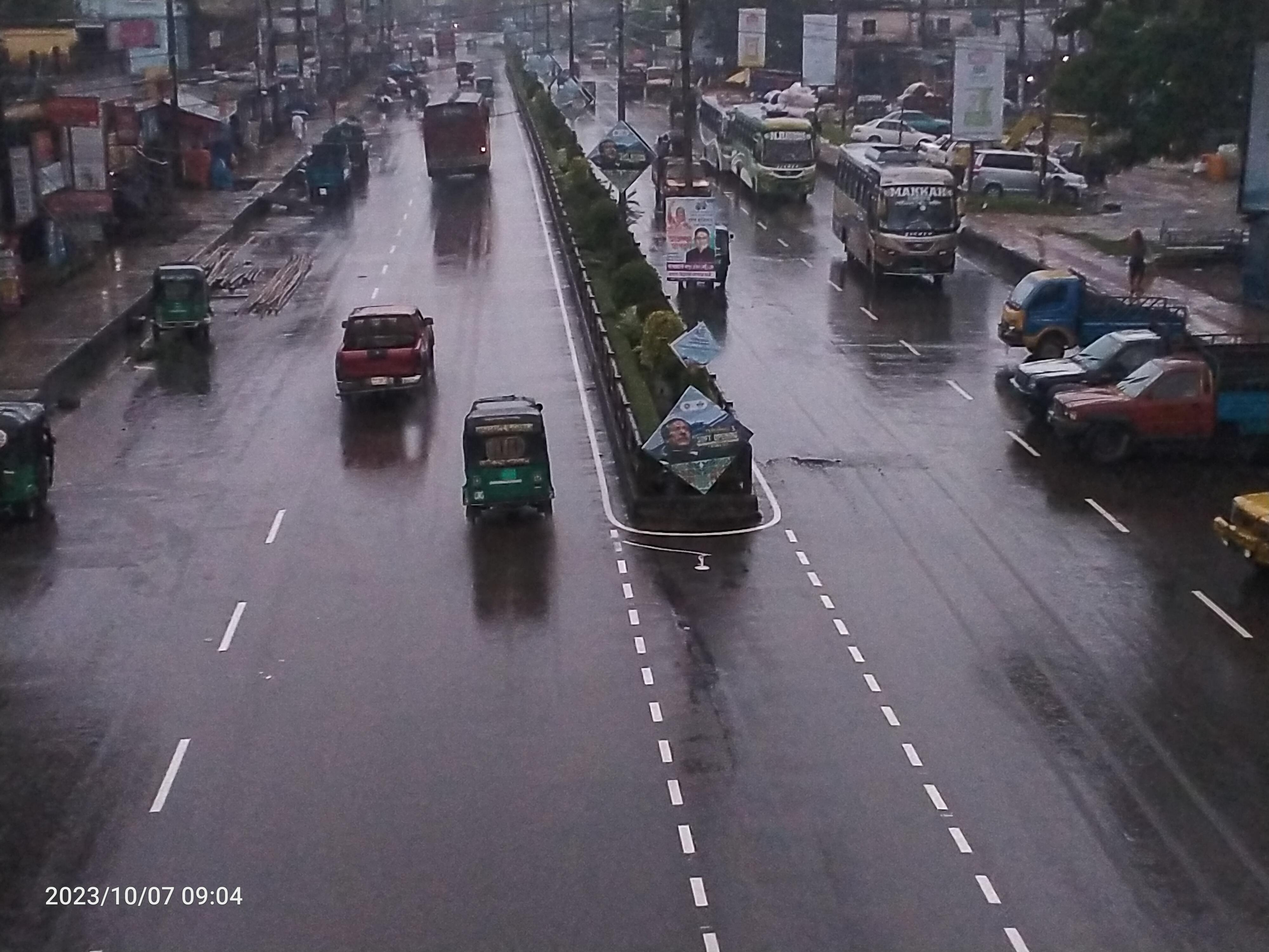Bus: (814, 136, 979, 296), (712, 92, 838, 216), (414, 87, 503, 196)
Car: (314, 275, 453, 418), (953, 130, 1109, 226), (838, 92, 952, 166)
Truck: (1005, 337, 1269, 479), (976, 251, 1215, 364), (278, 133, 361, 207)
